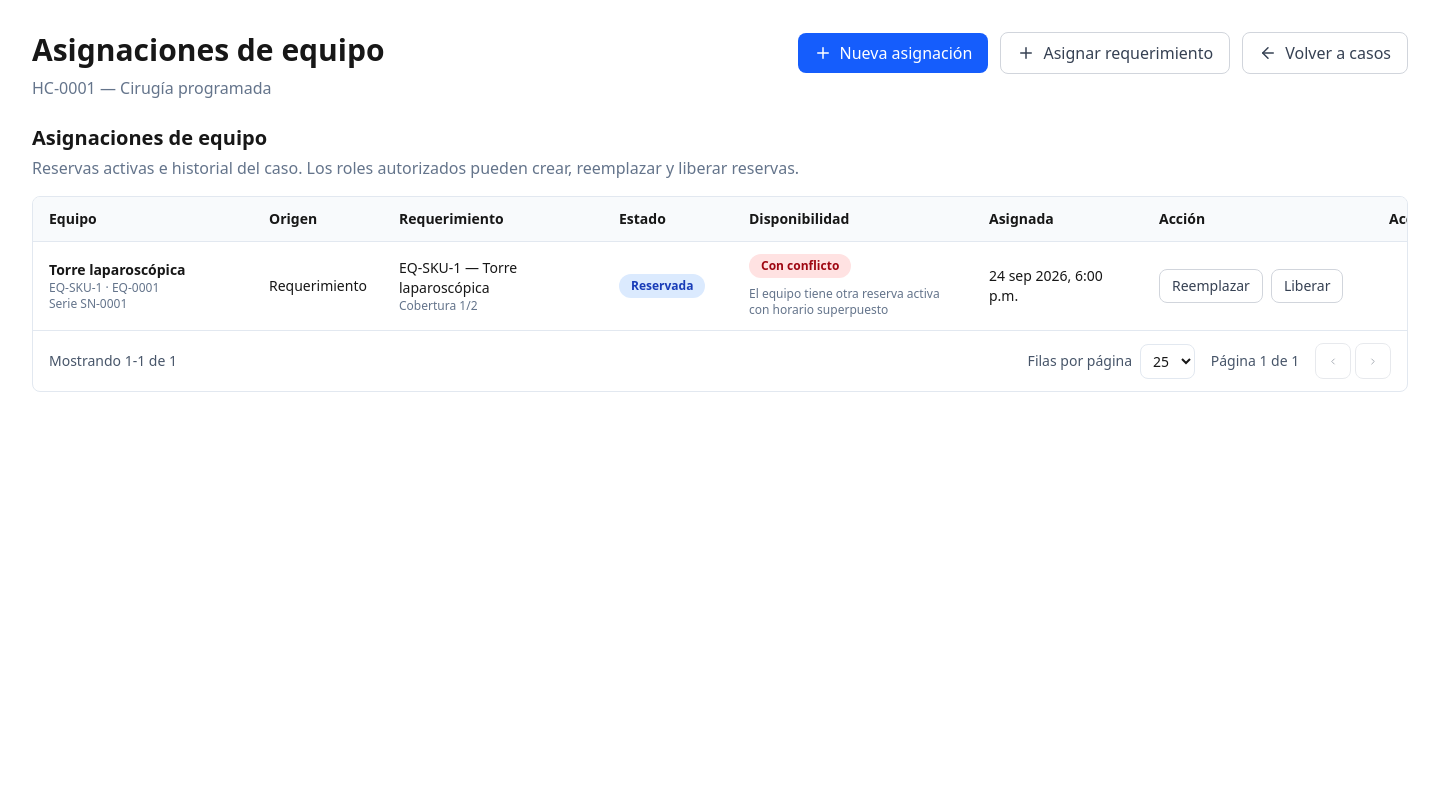
it: HealthcareCaseEquipmentAssignmentsPage › crea una Assignment DIRECT, cierra el modal y refresca la lista
This screenshot has width=1440, height=810.
expect the text "Torre laparoscópica" is shown: met, box [49,260,186,279]
Click the button "Nueva asignación": (893, 53) [798,33,988,73]
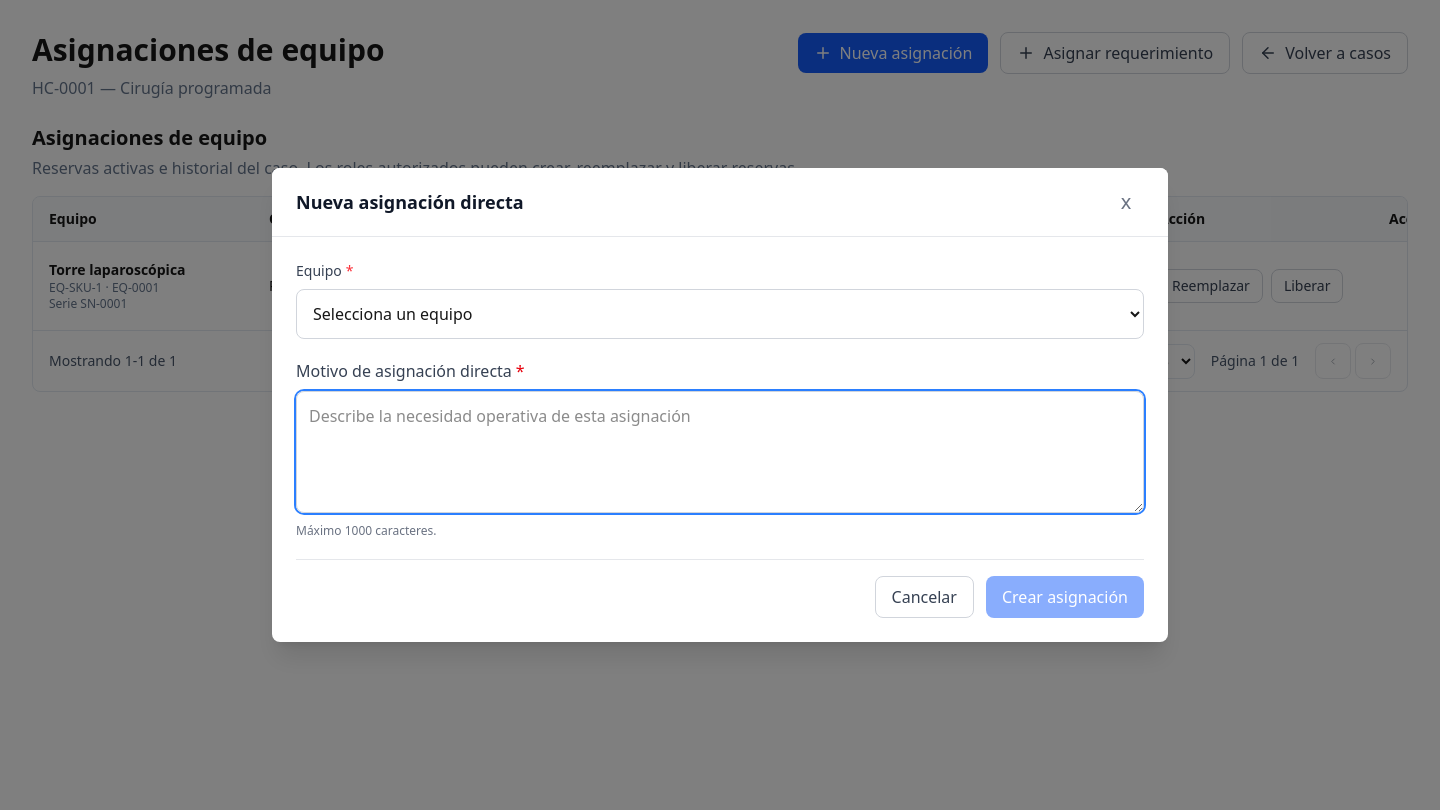
Select "Monitor de signos vitales · EQ-0002 · Serie SN-0002" in the dropdown labelled "Equipo*": (720, 314) [296,289,1144,339]
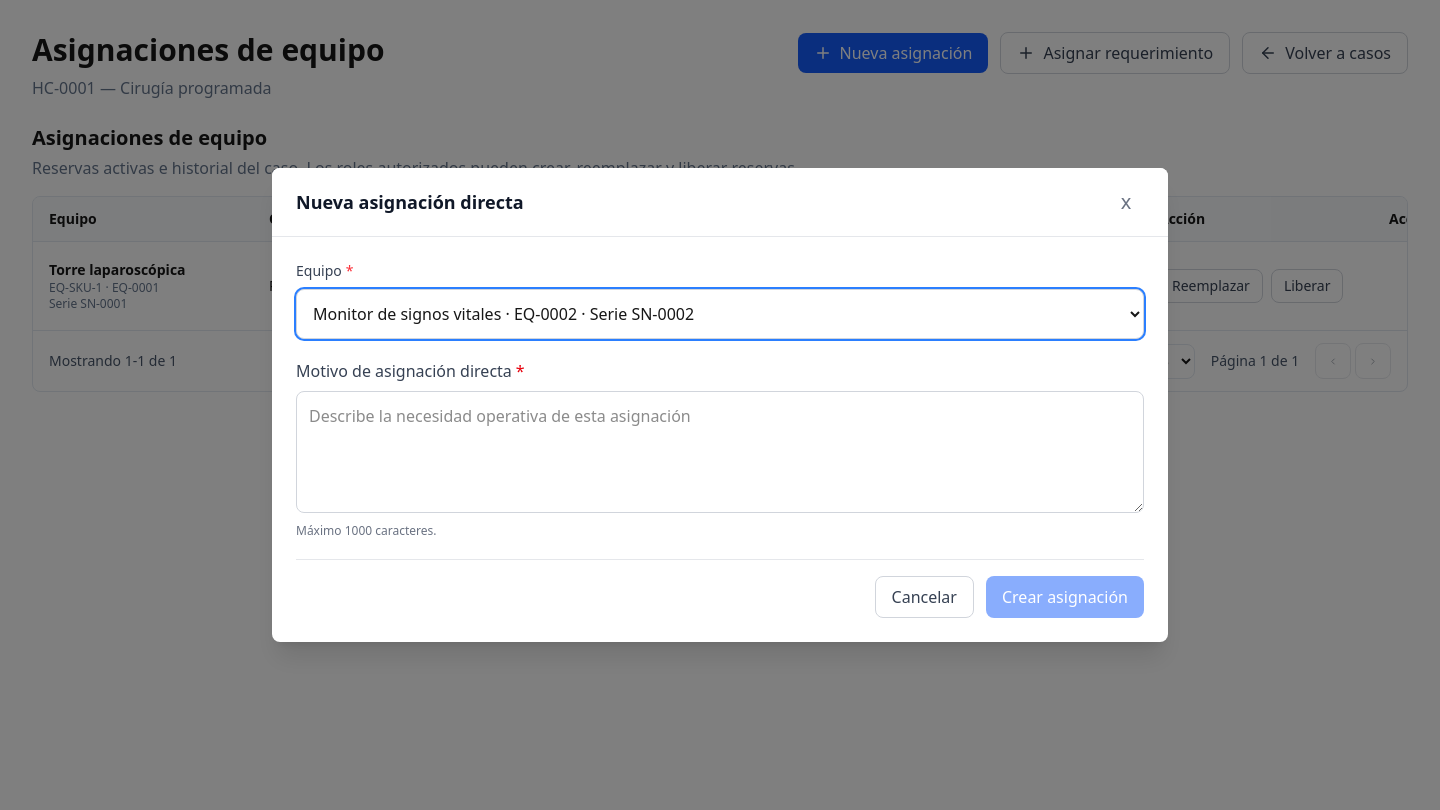
In the text box labelled "Motivo de asignación directa*": (720, 452) [296,391,1144,513], type "  Necesidad de demostración  "
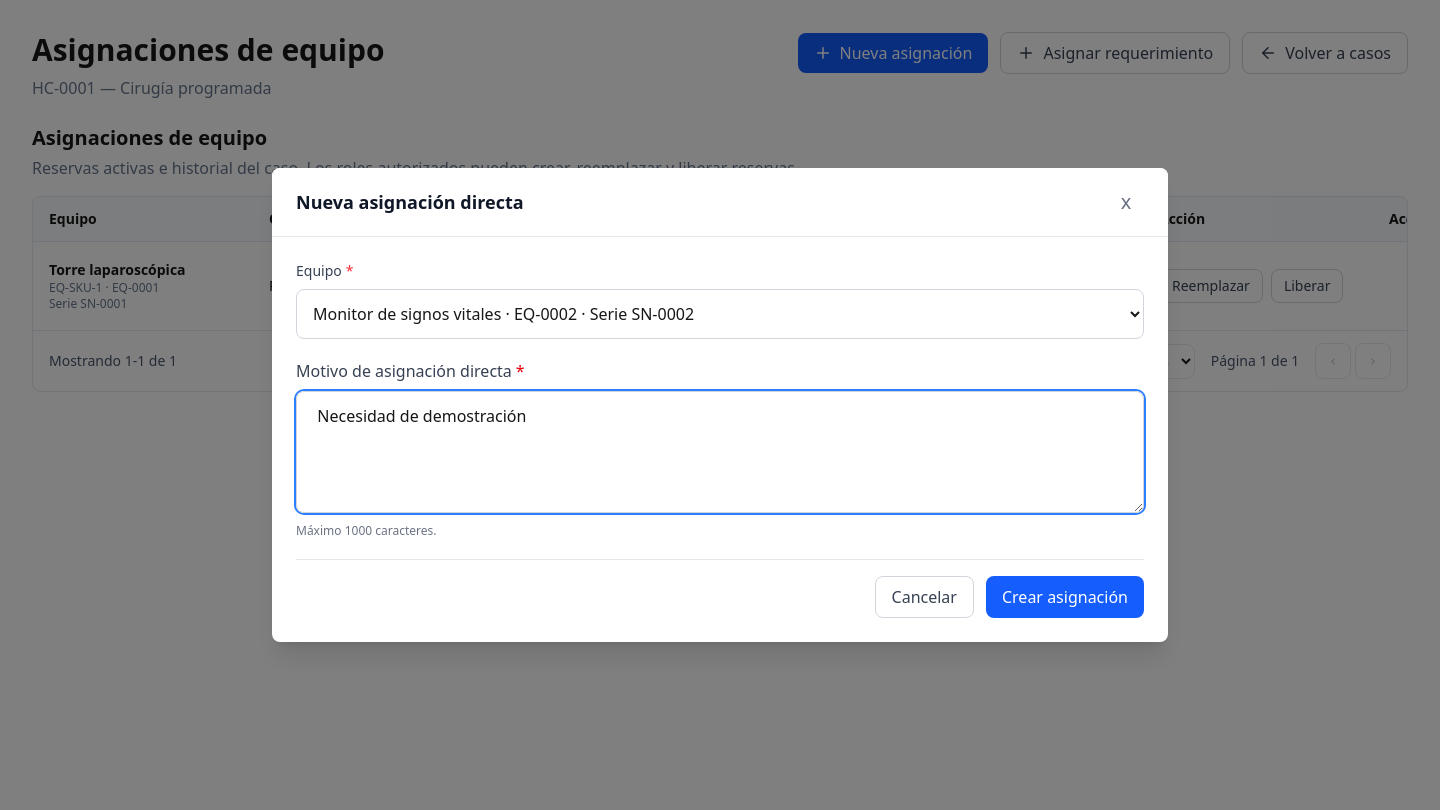
Click the button "Crear asignación": (1065, 597) [986,576,1144,618]
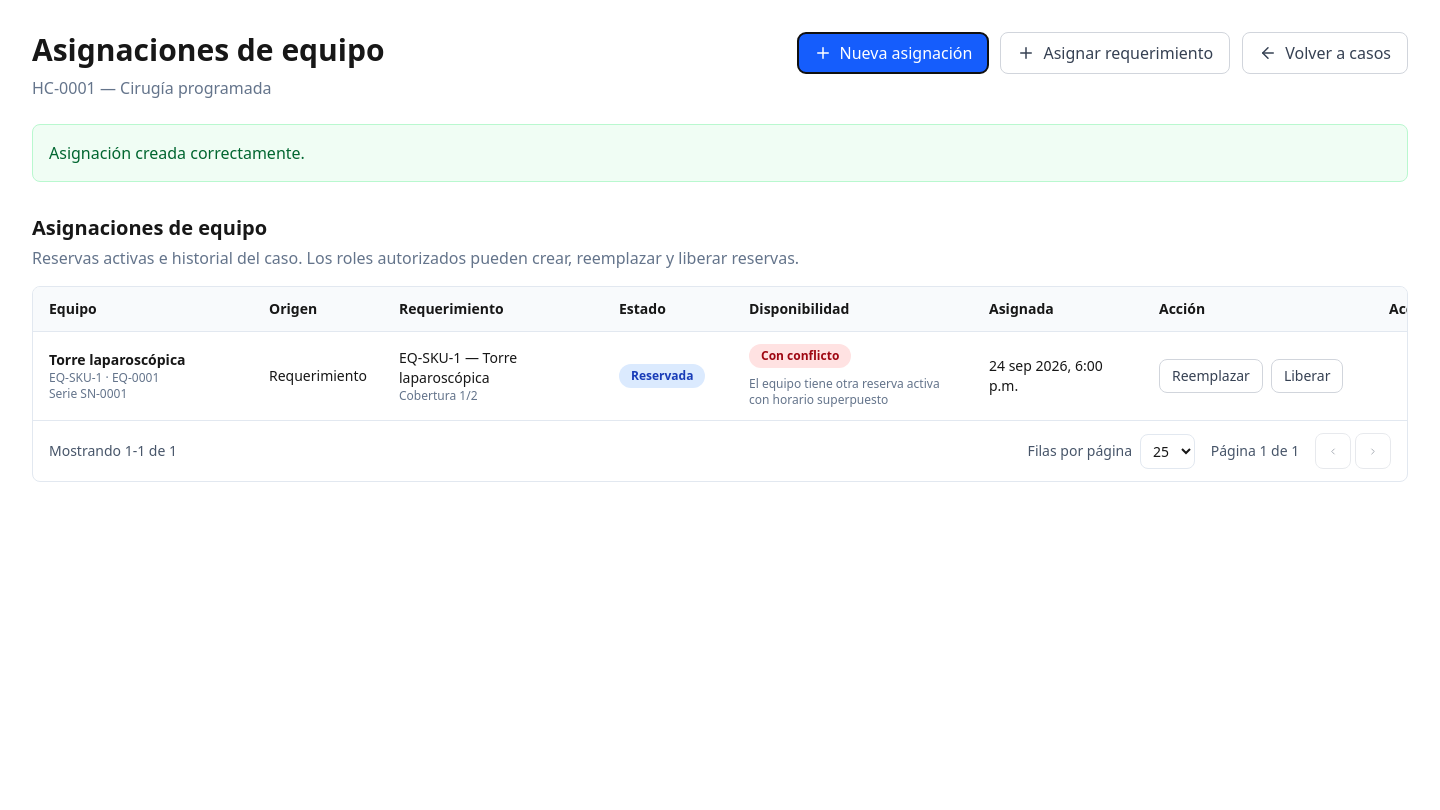
expect the text "Asignación creada correctamente." is shown: met, box [32,124,1408,182]
expect the heading "Nueva asignación directa" is gone: met
